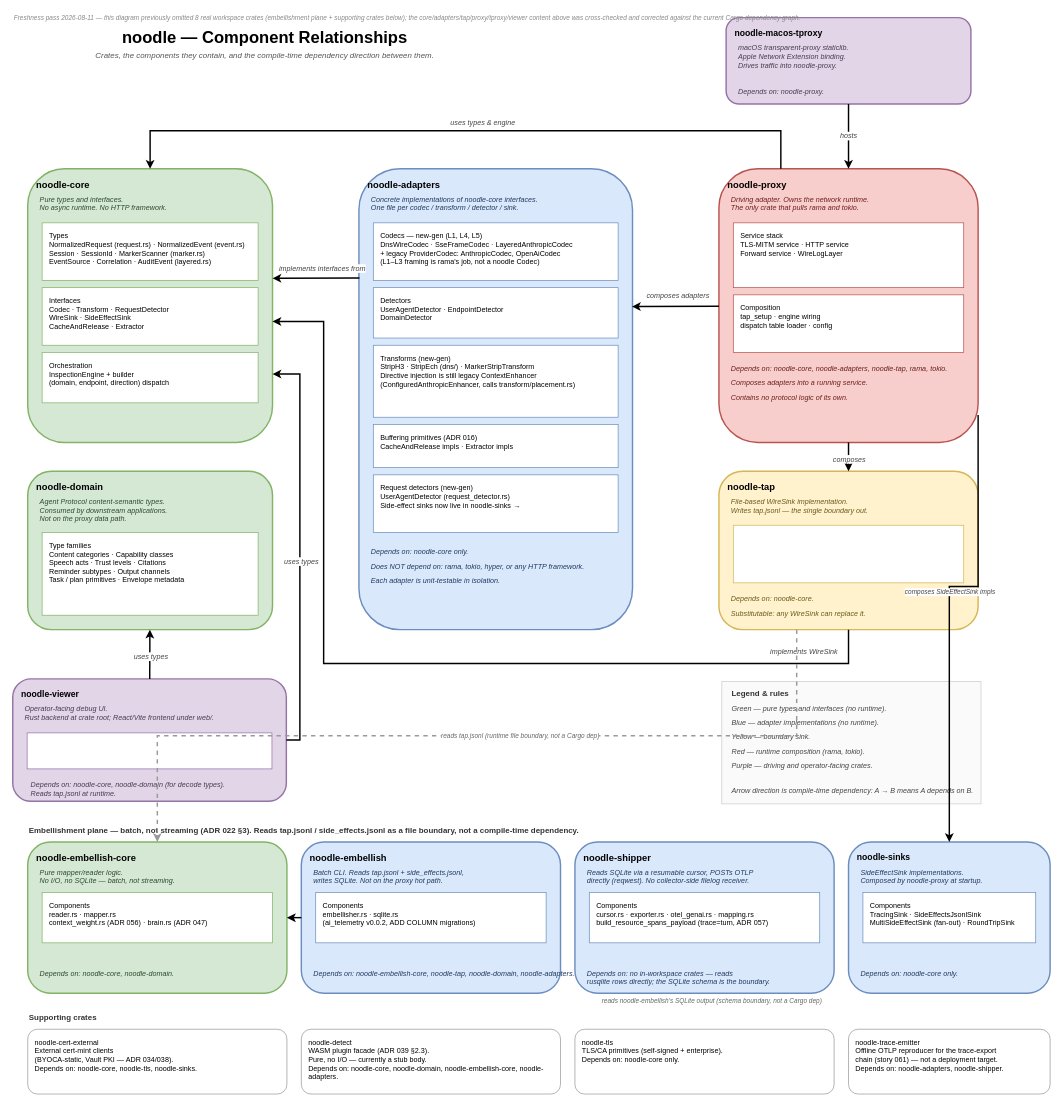
This 1063x1107 diagram has some shape labels left out. The shapes that lost their labels are listed below. From the top down, each one's centre as x and y in pixels, then its label:
At [848,554]: "Components FileWireSink · Rotation policy Append framing · Backpressure policy".
At [149,750]: "Components JsonlTailer · Decode pipeline · UI panels".
